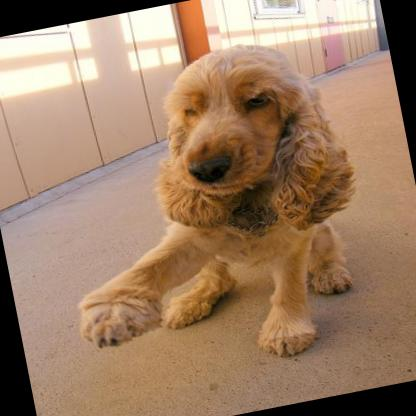cocker_spaniel: (28, 23, 389, 396)
